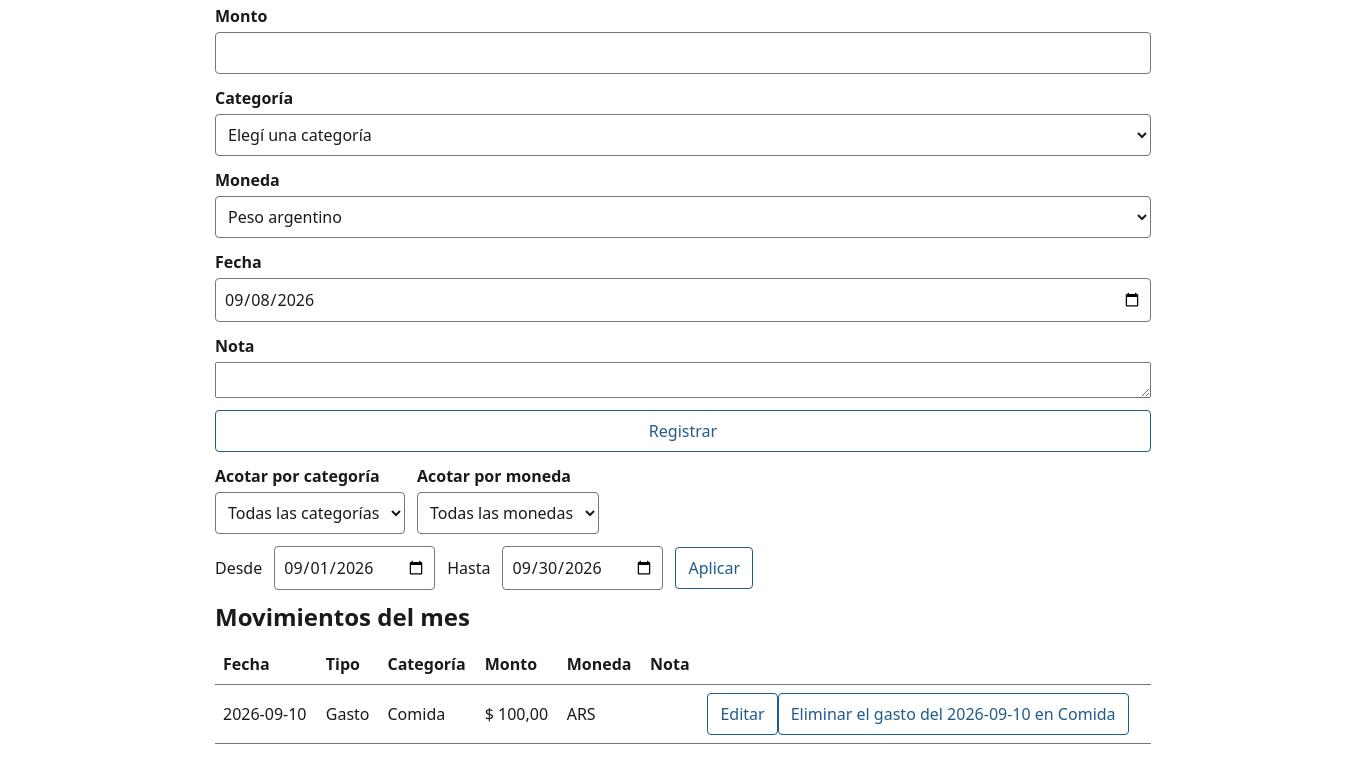
Test: FR-016, FR-017 · los tres juntos, y siempre contra el servidor › sin resultados lo dice, y no como un error (FR-016)
(page scrolled)
Check: the table named "movimientos del mes" is shown, box top-left (215, 644), bottom-right (1151, 744)
Select "Comida" in the dropdown labelled "Acotar por categoría": [310, 513] box top-left (215, 492), bottom-right (405, 534)
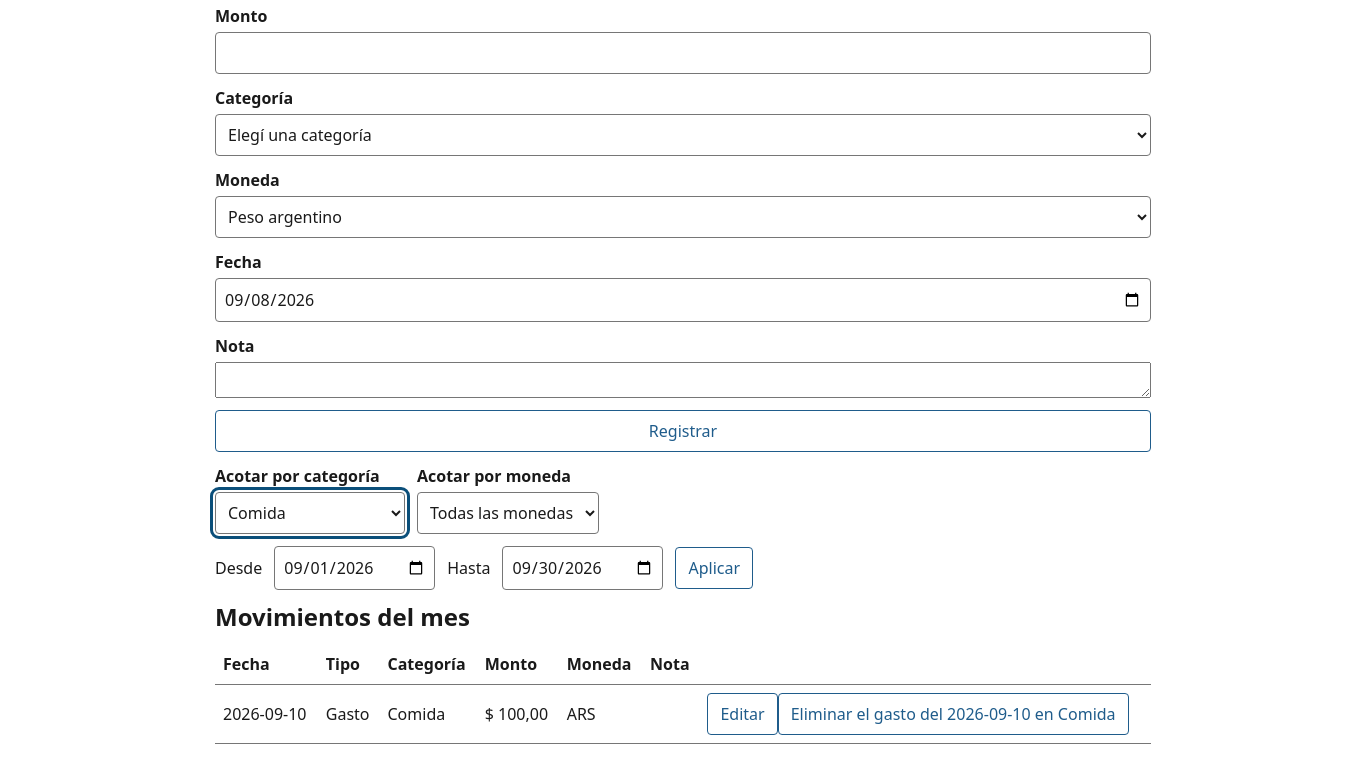
Click the button "Aplicar": [714, 568] box top-left (676, 547), bottom-right (753, 589)
(page scrolled)
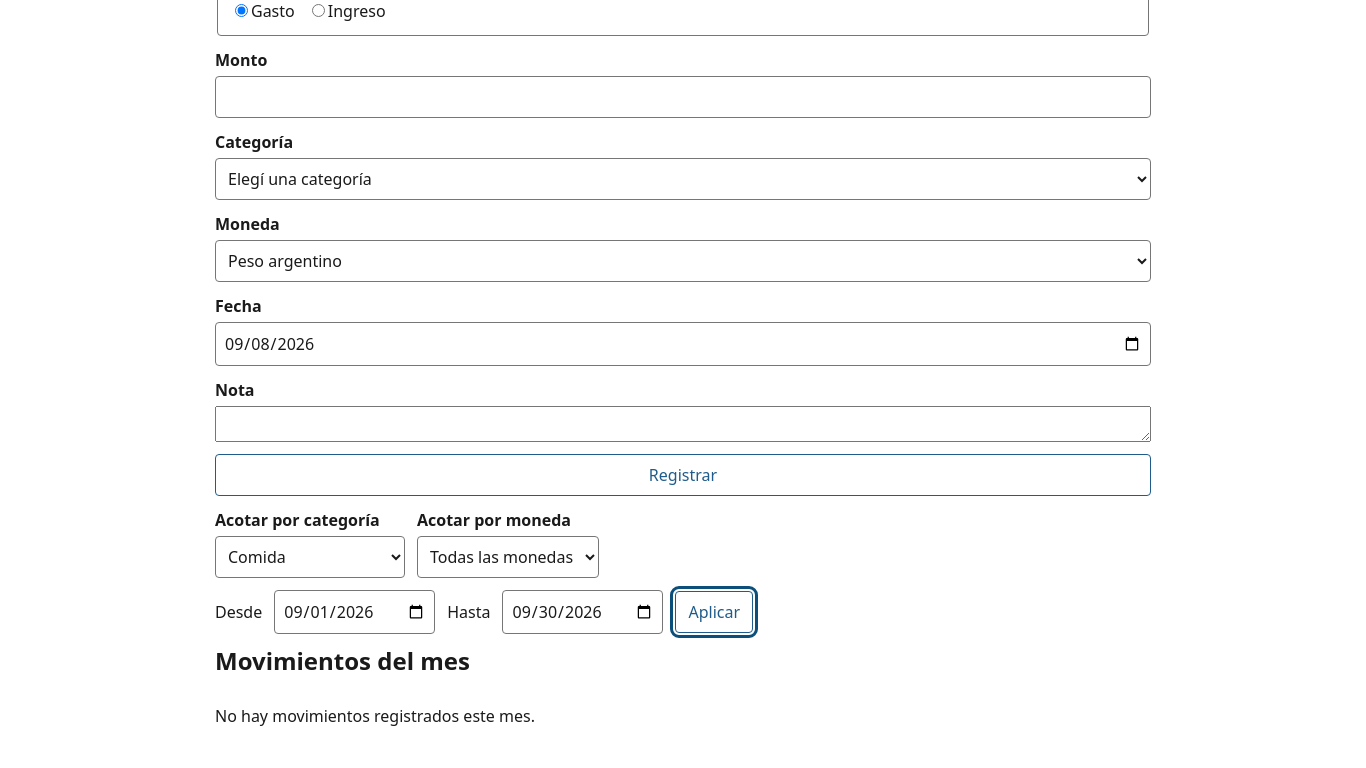
Check: the text "No hay movimientos registrados este mes." is shown, box top-left (215, 705), bottom-right (535, 727)
